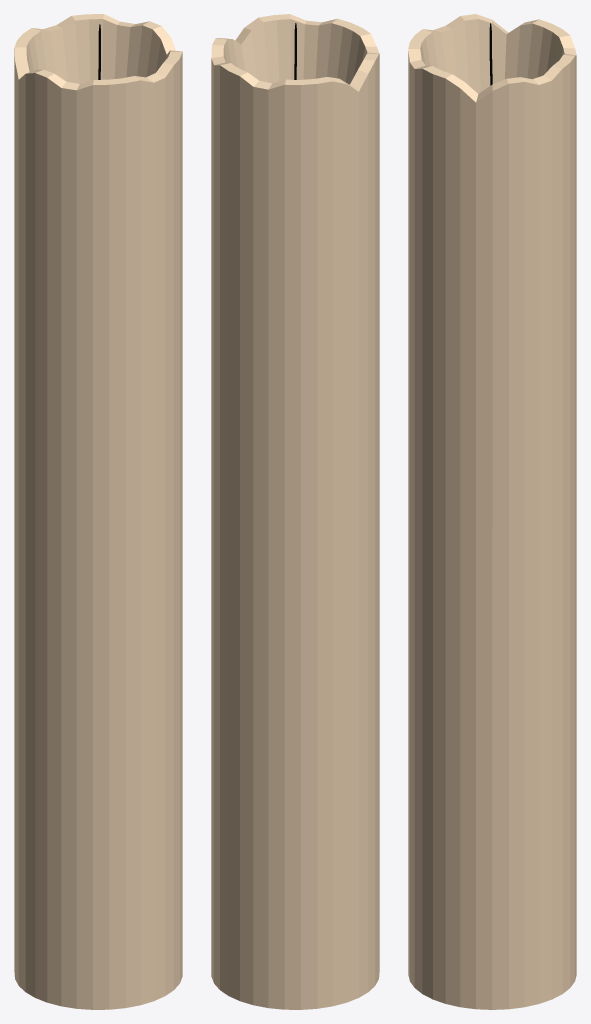
The model's file is Candle_006.fbx.
The picture shows the model from 3 angles, left to right: view 1: azimuth 30°, elevation 25°; view 2: azimuth 150°, elevation 25°; view 3: azimuth 270°, elevation 25°; orthographic projection.
Visible parts, largest first — view 1: Candle.006; view 2: Candle.006; view 3: Candle.006.
Boxes of the visible parts, <box> form: Candle.006: <box>14,14,182,1009</box>; Candle.006: <box>211,14,379,1009</box>; Candle.006: <box>408,14,576,1009</box>.
Size of the model in its own units: 5 by 31.13 by 5.
